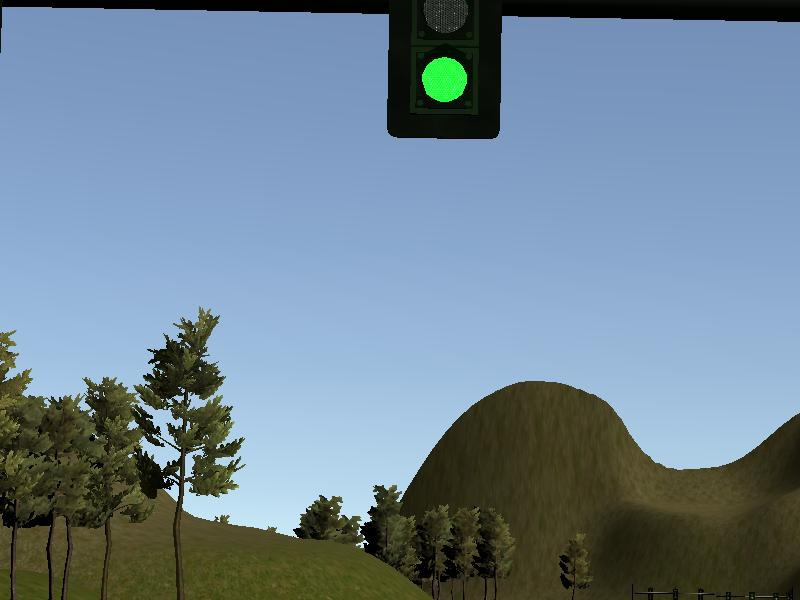green_light: (390, 1, 501, 141)
